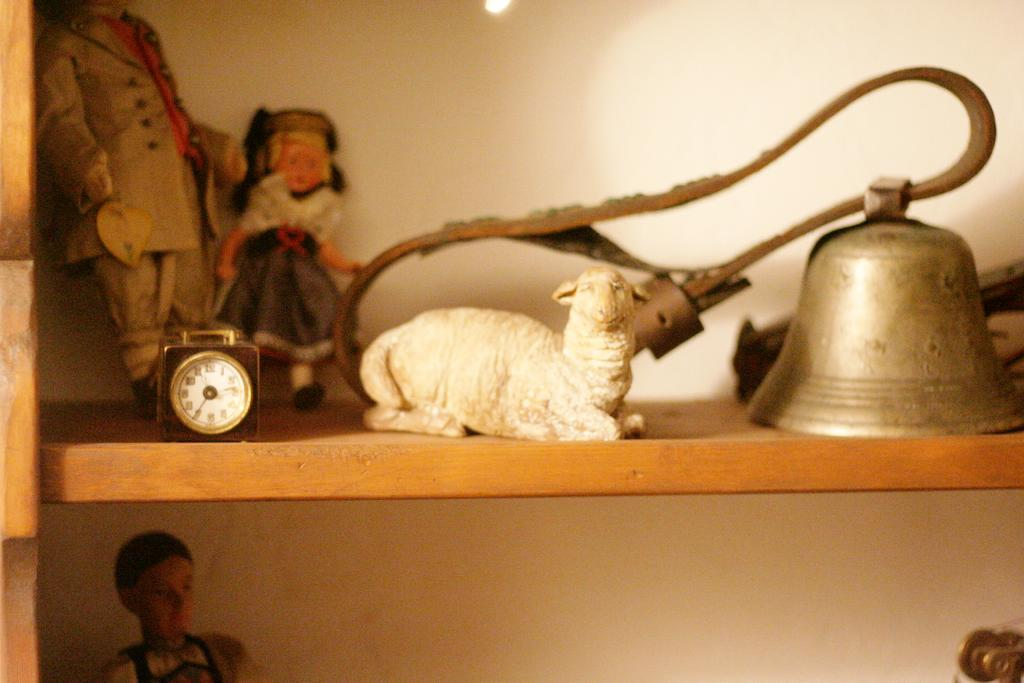Sheep: (353, 257, 656, 447)
